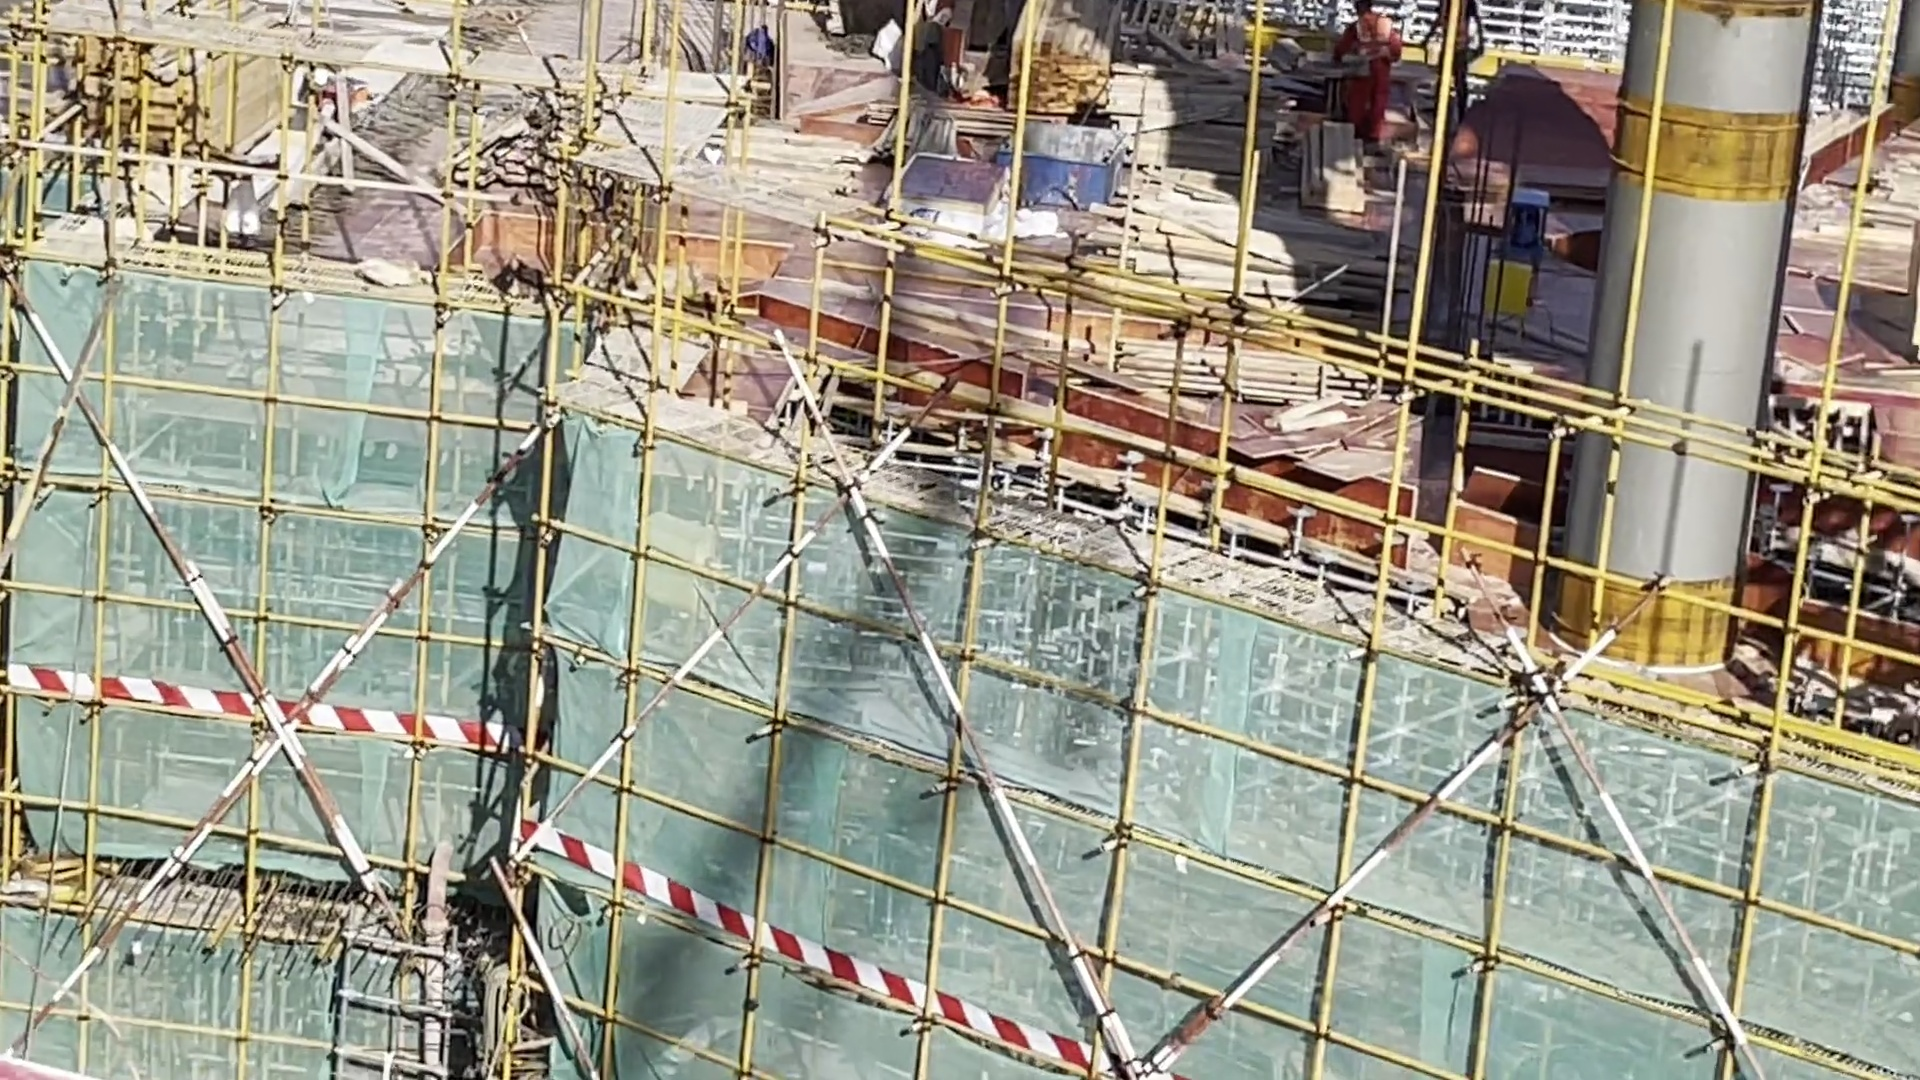hopper: (1008, 113, 1147, 216)
person: (1345, 1, 1397, 162), (1439, 1, 1479, 129)
vest: (1345, 15, 1401, 70)
wood: (1108, 166, 1380, 308), (76, 8, 282, 173), (1002, 8, 1123, 121), (1303, 120, 1362, 214)
